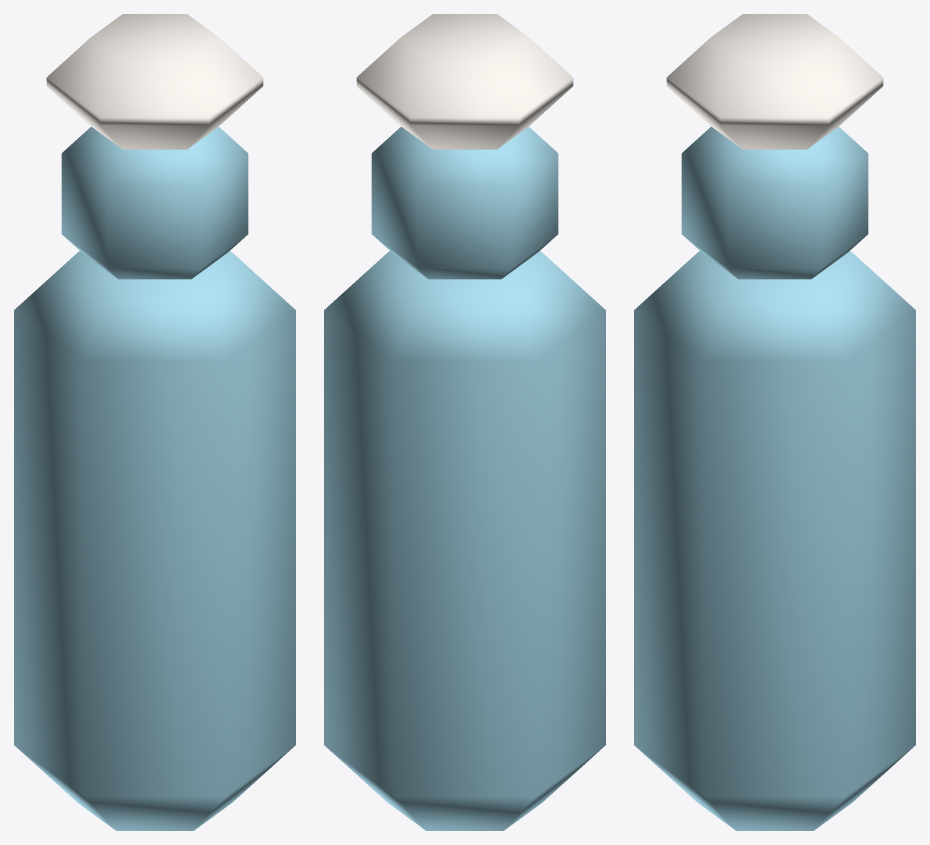
File: water-bottle.glb
3 renders of one model, left to right at view 1: azimuth 30°, elevation 25°; view 2: azimuth 150°, elevation 25°; view 3: azimuth 270°, elevation 25°, orthographic.
Parts seen in each view (by area): view 1: part (×3); view 2: part (×3); view 3: part (×3).
Part boxes in pixels (bbox=[...]): part (×3): bbox=[14, 14, 295, 830]; part (×3): bbox=[324, 14, 605, 830]; part (×3): bbox=[634, 14, 915, 830].
Size of the model in its own units: 0.1914 by 0.6622 by 0.221.
1 material, 1 textured.
